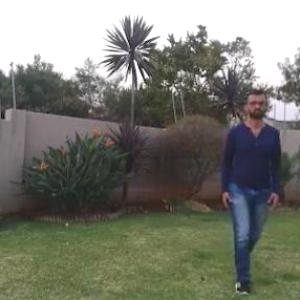follow: (222, 102, 270, 267)
